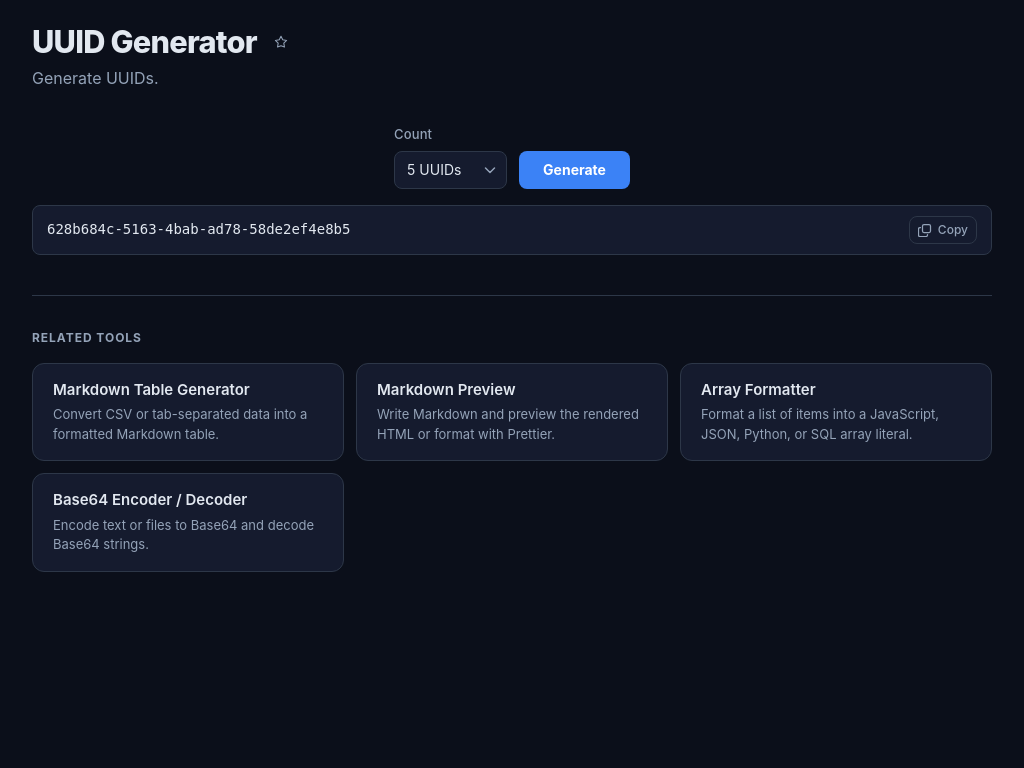
Test: UuidGenerator › shows a "Copy all" button when multiple UUIDs are generated
Select "5 UUIDs" in the dropdown labelled "Count". click: [451, 170]
box: [394,150,507,188]
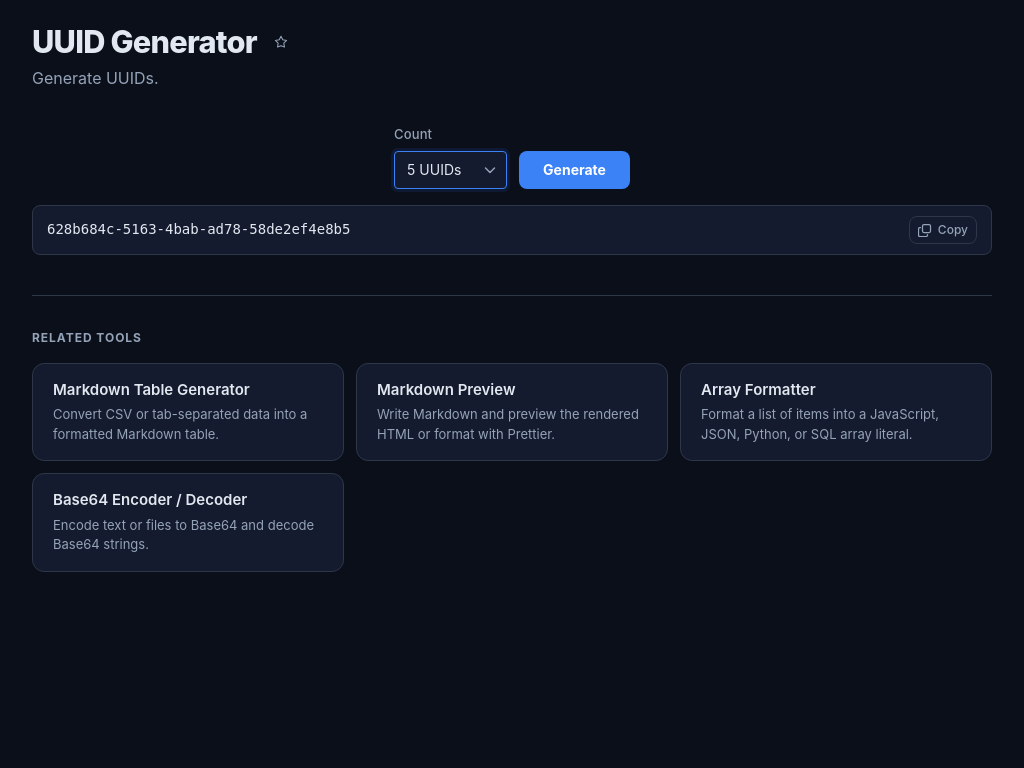
Click the button "Generate". click: [575, 170]
box: [519,150,630,188]
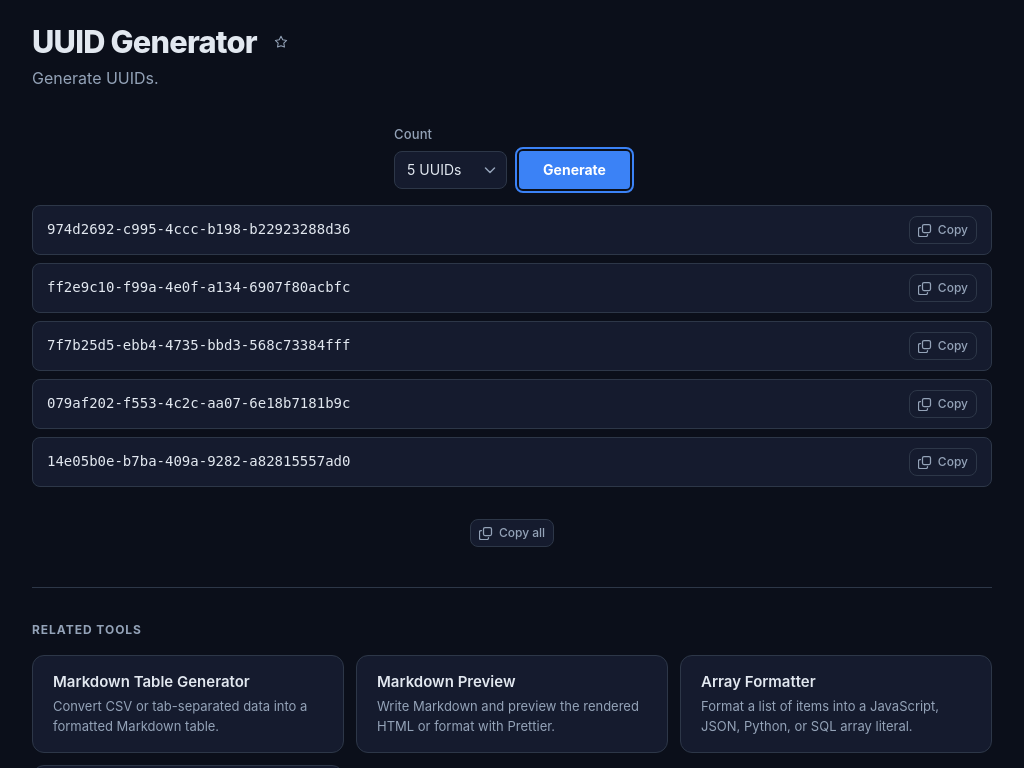
Result: the button "Copy all" is shown at [470,518,554,546]
